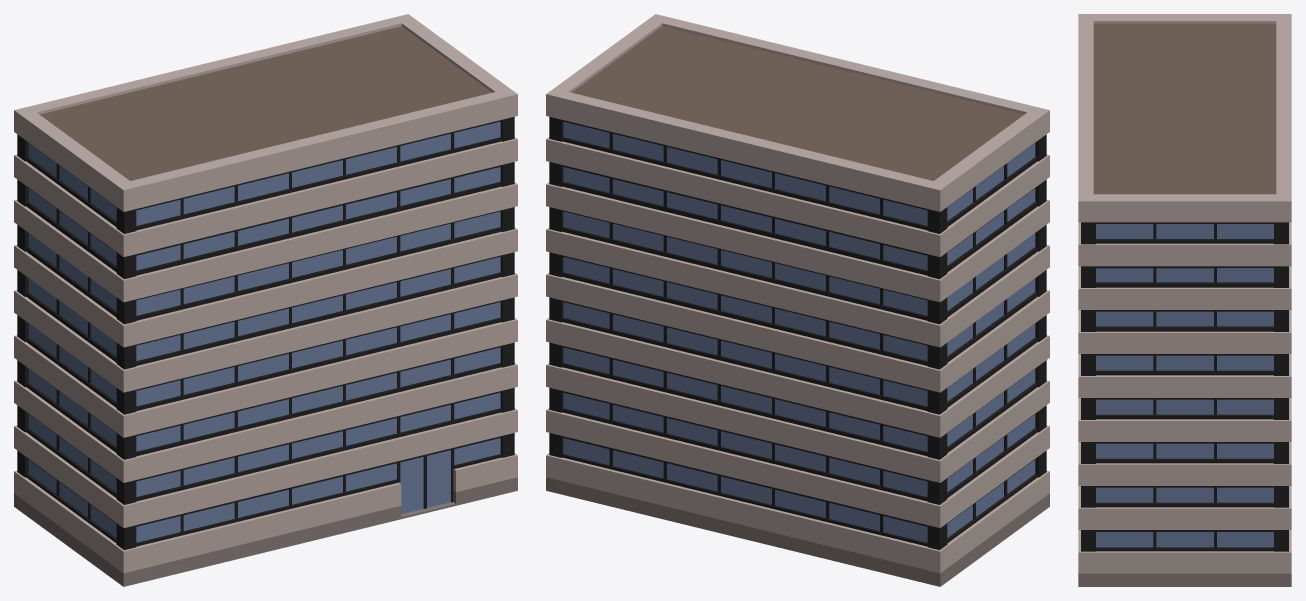
Rendered from LargeBuilding_10.fbx.
3 renders of one model, left to right at view 1: azimuth 30°, elevation 25°; view 2: azimuth 150°, elevation 25°; view 3: azimuth 270°, elevation 25°, orthographic. The views are drawn at different scales.
Visible parts, largest first — view 1: LargeBuilding_10; view 2: LargeBuilding_10; view 3: LargeBuilding_10.
Part boxes in pixels (<box>): LargeBuilding_10: <box>14,14,517,586</box>; LargeBuilding_10: <box>546,14,1049,586</box>; LargeBuilding_10: <box>1078,14,1291,586</box>.
Bounding box in the file's own units: 29.57 × 28.42 × 14.23.
